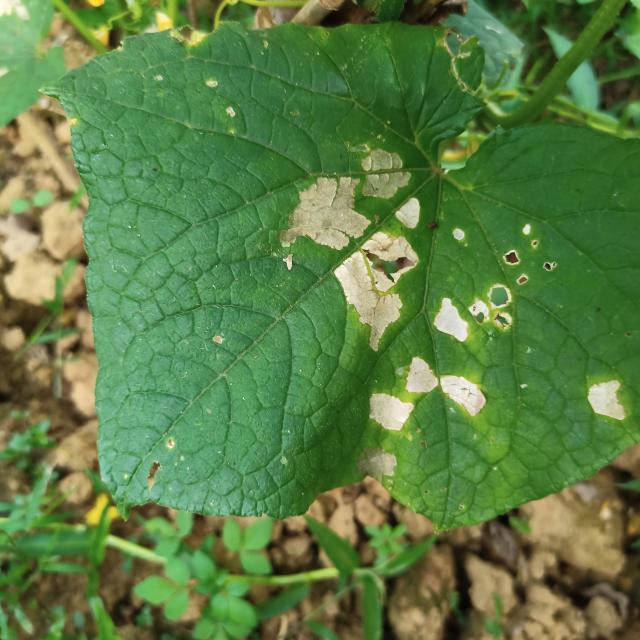disease_cucumber: (282, 144, 424, 356), (433, 210, 561, 350), (361, 356, 493, 436), (578, 374, 633, 426)
